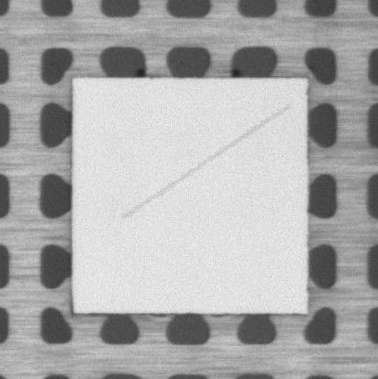DIE_CRACK: (124, 107, 287, 218)
